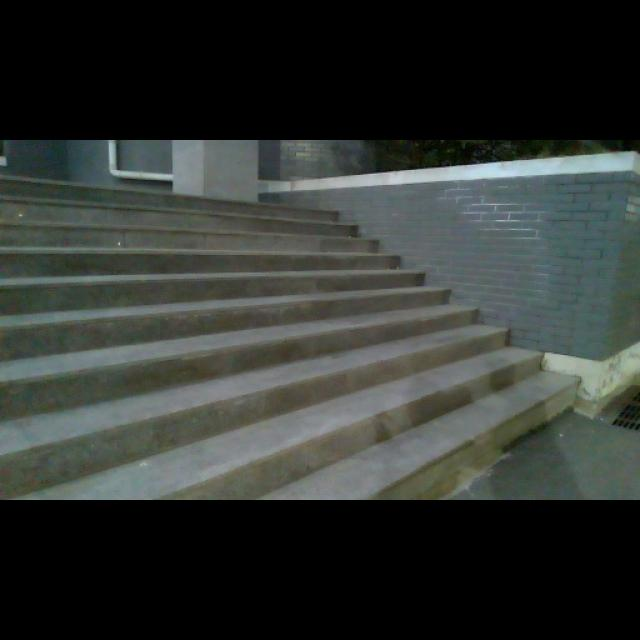Stairs: (0, 171, 581, 500)
